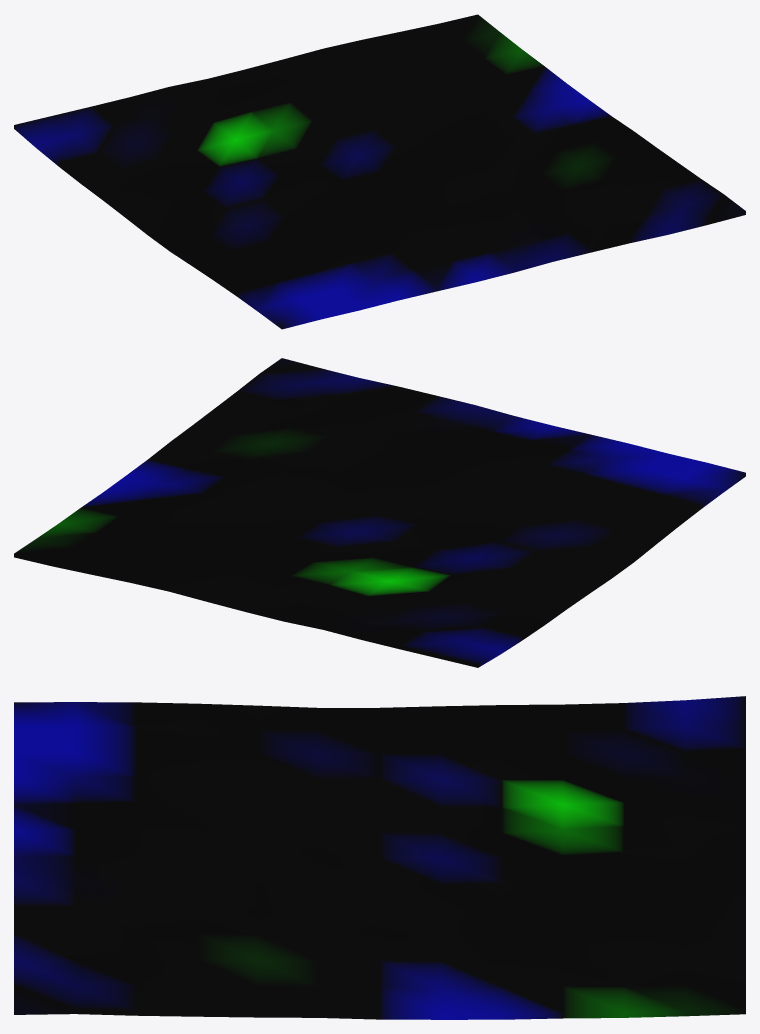
The model's file is coast_19_7.glb.
3 views of the same model, one above another, from view 1: azimuth 30°, elevation 25°; view 2: azimuth 150°, elevation 25°; view 3: azimuth 270°, elevation 25° (orthographic). The views are drawn at different scales.
Visible parts, largest first — view 1: terrain; view 2: terrain; view 3: terrain.
Boxes of the visible parts, <box> form: terrain: <box>14,14,745,329</box>; terrain: <box>14,358,745,667</box>; terrain: <box>14,696,745,1019</box>.
Bounding box in the file's own units: 192 × 5.28 × 192.
